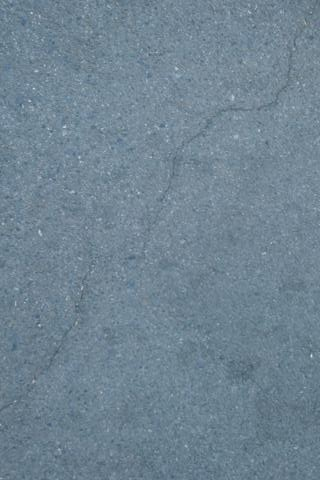A: (160, 41, 306, 207), (28, 260, 96, 381)
